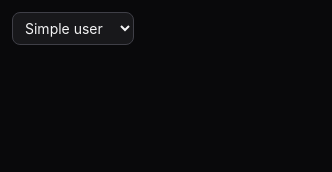
Test case: RoleSelect › reverts the select and shows the error when the patch fails
Step 1. Select "Super admin" in the dropdown named "Role" → (73, 28), box 12,12 -> 134,45
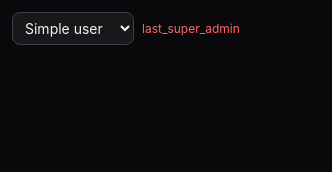
Check: the message reads "last_super_admin", box 142,20 -> 240,36
